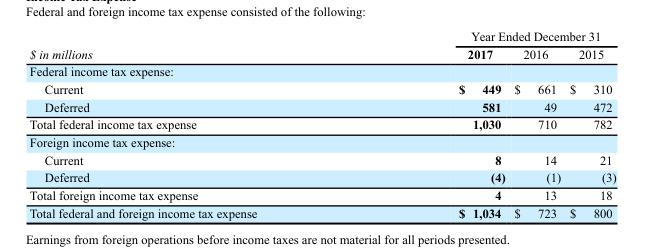table: (28, 28, 615, 219)
table column: (28, 28, 357, 219), (357, 28, 509, 219), (509, 28, 564, 219), (564, 28, 615, 219)
table column header: (28, 28, 615, 62)
table projected row header: (28, 132, 615, 150), (28, 62, 615, 79)
table row: (28, 44, 615, 62), (28, 79, 615, 97), (28, 97, 615, 115), (28, 132, 615, 150), (28, 150, 615, 168), (28, 185, 615, 203), (28, 62, 615, 79), (28, 115, 615, 132), (28, 168, 615, 185), (28, 28, 615, 44), (28, 203, 615, 219)
table spanning cell: (28, 28, 357, 62), (357, 28, 615, 44)
